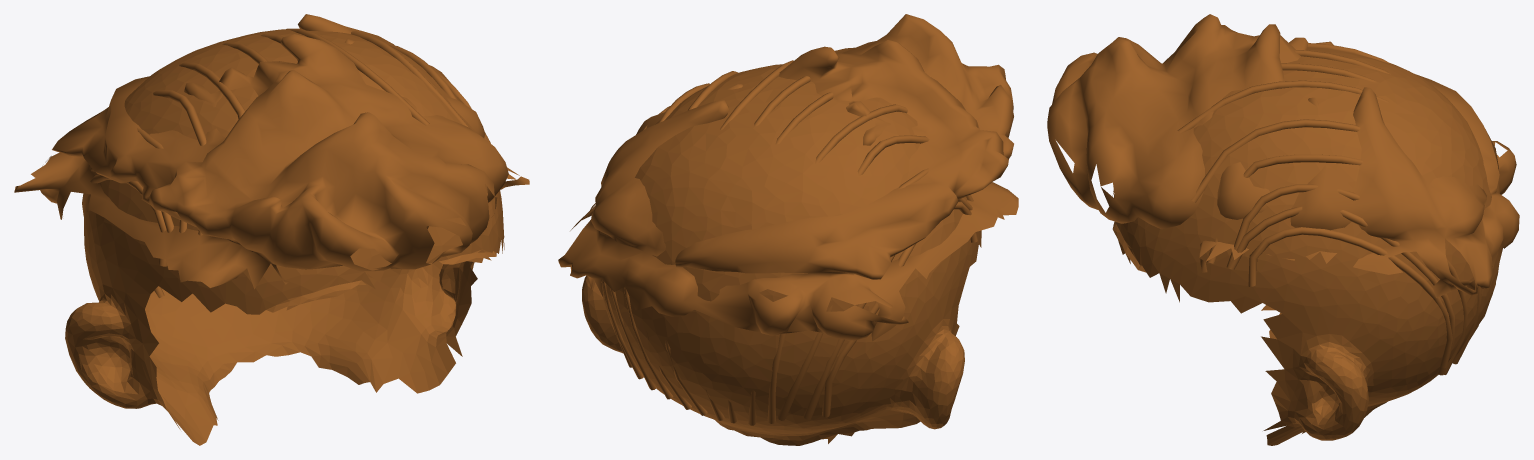
File: quiff.glb
3 views of the same model, side by side, from view 1: azimuth 30°, elevation 25°; view 2: azimuth 150°, elevation 25°; view 3: azimuth 270°, elevation 25° (orthographic). The views are drawn at different scales.
Visible parts, largest first — view 1: Hair, HairScalp, HairPulledRootStrands; view 2: HairScalp, Hair, HairPulledRootStrands; view 3: HairScalp, Hair, HairPulledRootStrands.
Boxes of the visible parts, box(x1,y1,x2,y2) form: Hair: box(14, 14, 529, 289); HairScalp: box(65, 29, 504, 445); HairPulledRootStrands: box(82, 28, 504, 297); HairScalp: box(582, 64, 981, 445); Hair: box(558, 14, 1018, 341); HairPulledRootStrands: box(601, 60, 977, 425); HairScalp: box(1112, 47, 1499, 445); Hair: box(1047, 14, 1519, 297); HairPulledRootStrands: box(1177, 43, 1496, 375).
Bounding box in the file's own units: 0.4678 × 0.4295 × 0.5034.
